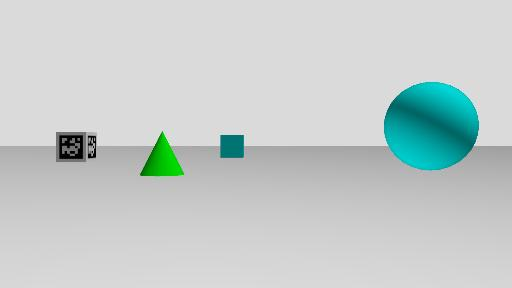green_cone: (139, 131, 185, 177)
